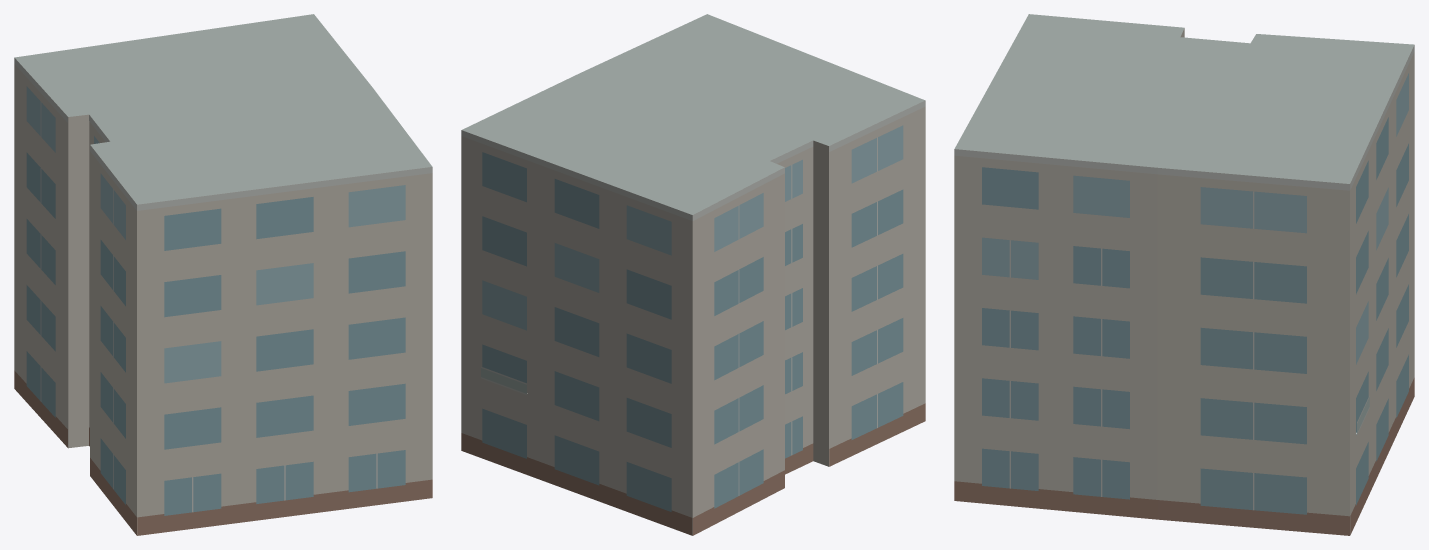
Rendered from survey-upis-32663590.glb.
3 views of the same model, side by side, from view 1: azimuth 30°, elevation 25°; view 2: azimuth 150°, elevation 25°; view 3: azimuth 270°, elevation 25° (orthographic). The views are drawn at different scales.
Visible parts, largest first — view 1: survey-upis-32663590.tmp; view 2: survey-upis-32663590.tmp; view 3: survey-upis-32663590.tmp.
Part boxes in pixels (box(x1,y1,x2,y2)): survey-upis-32663590.tmp: box(14, 14, 432, 535); survey-upis-32663590.tmp: box(461, 14, 925, 535); survey-upis-32663590.tmp: box(954, 14, 1414, 535).
Bounding box in the file's own units: 13.38 × 12.9 × 15.3.
